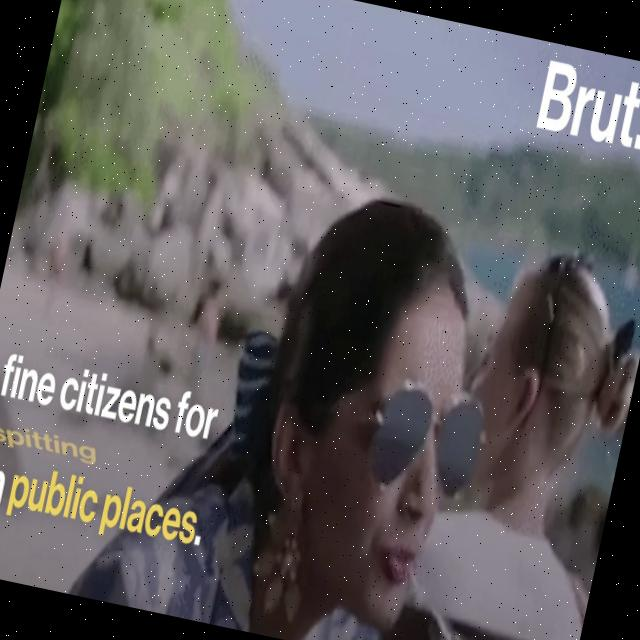spit: (325, 264, 561, 640)
